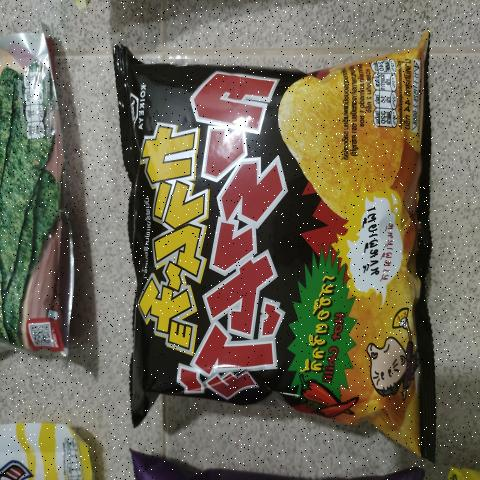karamujo: (126, 68, 426, 420)
